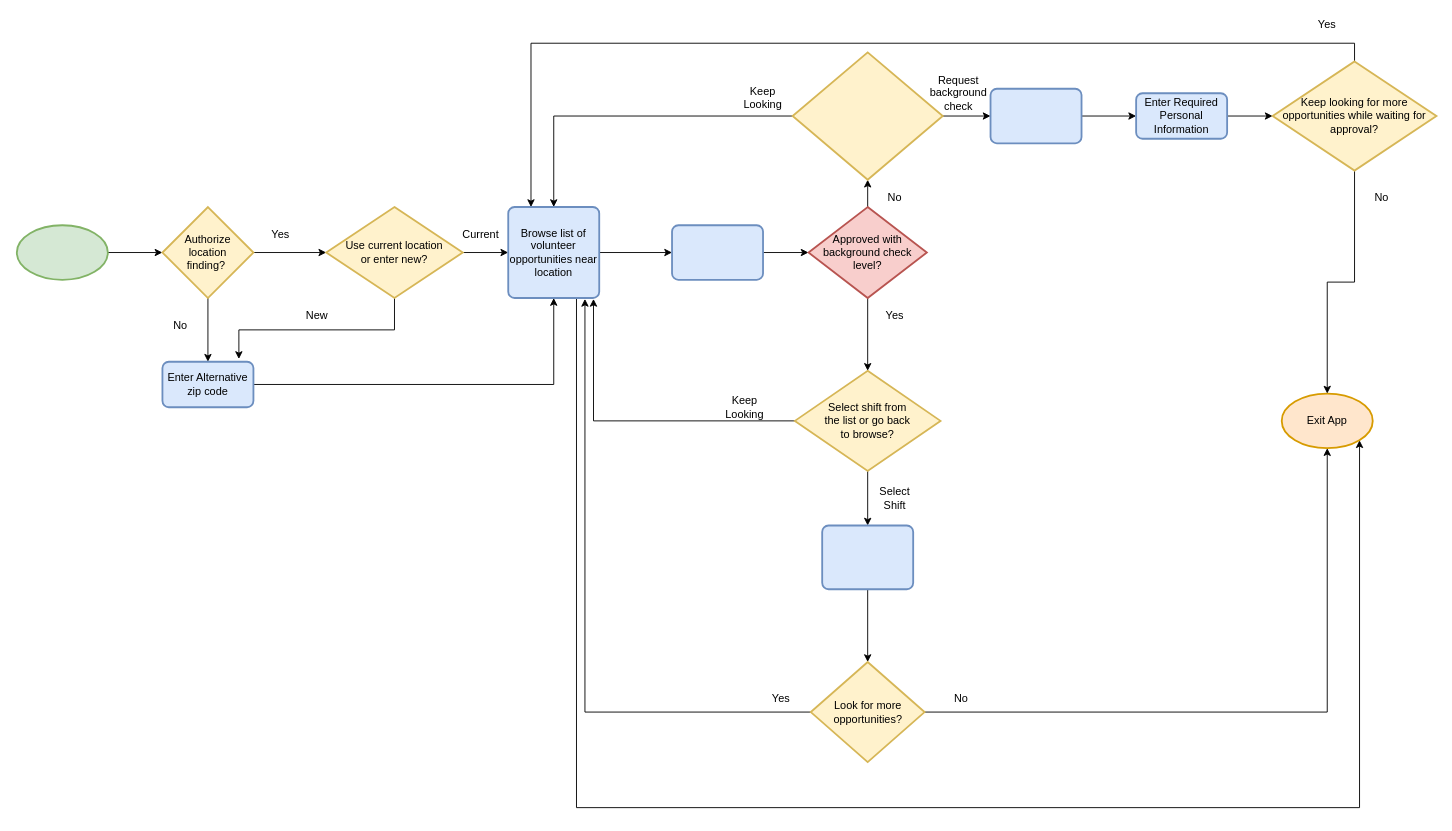
Some shapes in this 1452 by 831 pixel diagram are drawn without their labels. The shapes that lost their labels are listed below. From the top down, each one's centre as x and y in pixels, then its label:
[867,115]: Look at a different opportunity or request for the needed background check
[1035,115]: Request a background check
[61,252]: Launch App
[717,252]: Found specific volunteer opportunity
[867,557]: Shift Added to Personal Schedule
